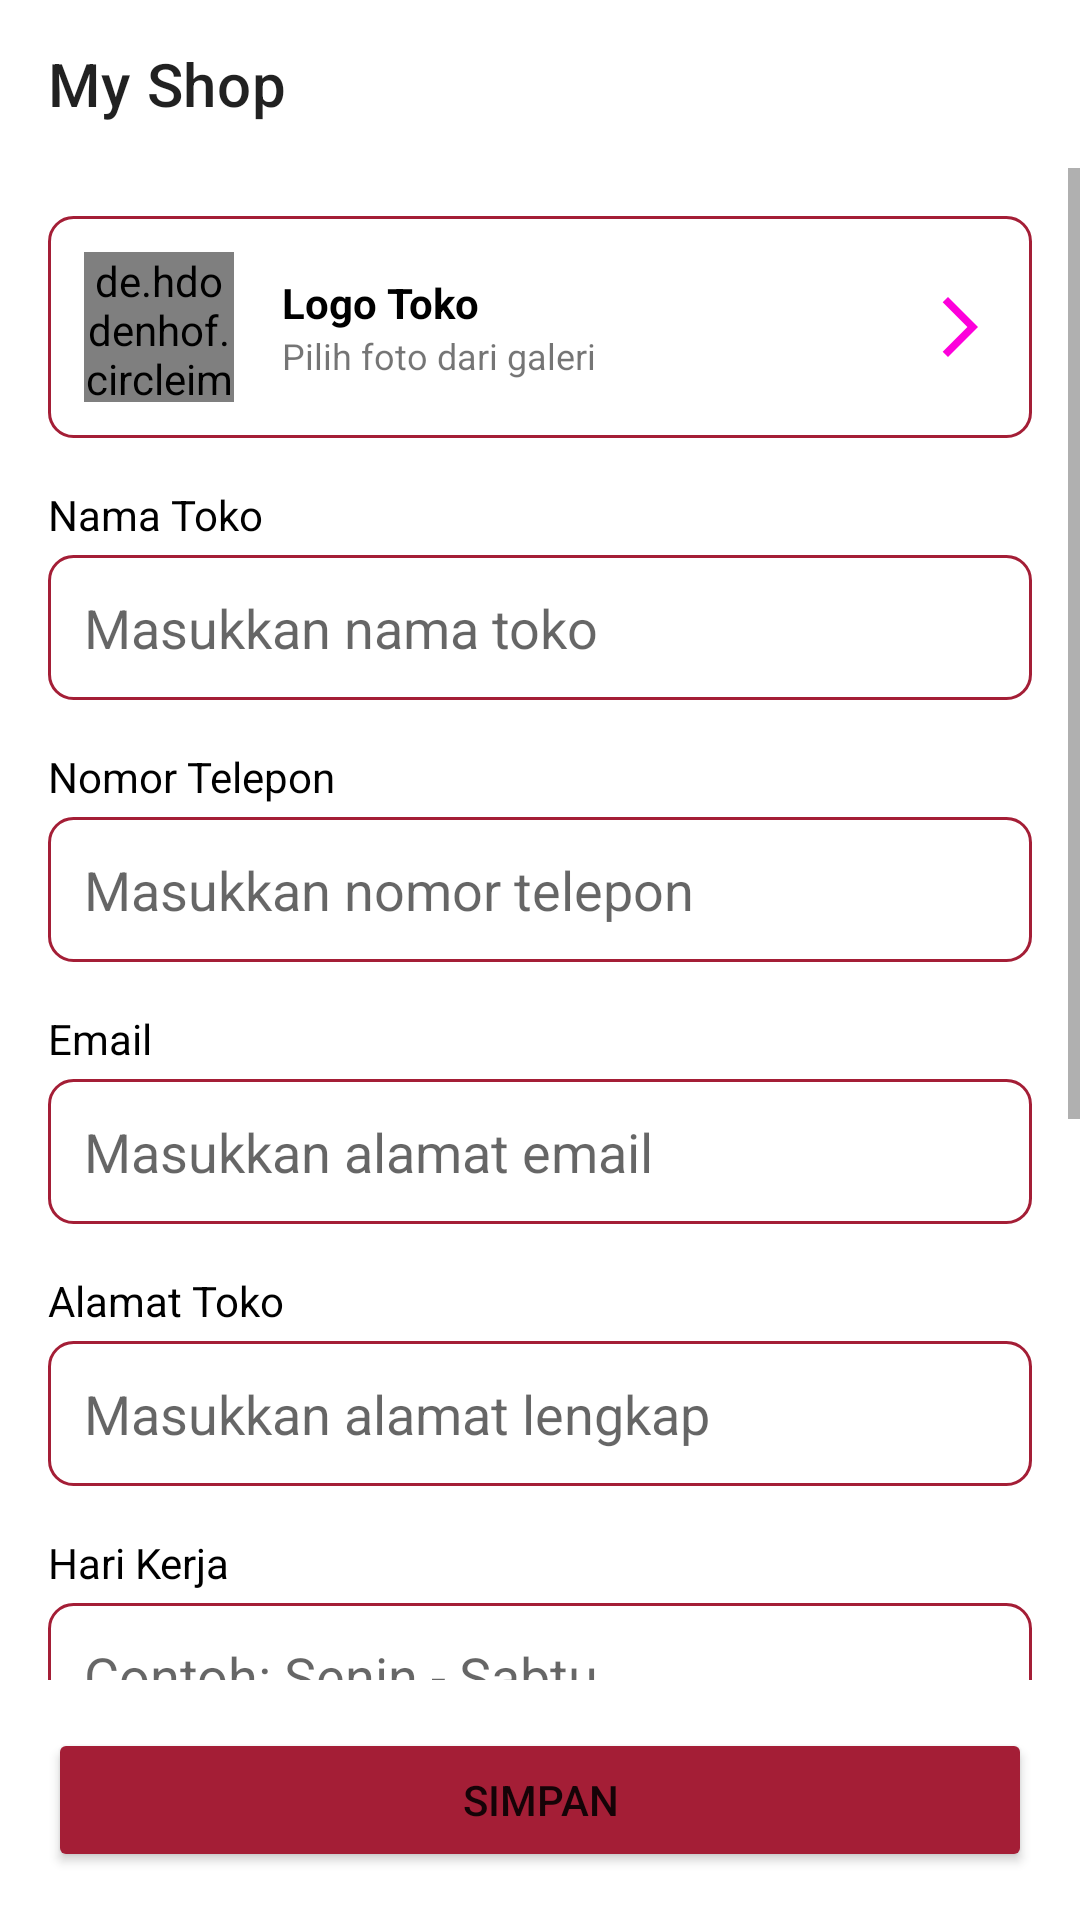

Where to tap for icons on this 1080w x 1920h app screen, as (x,y):
panah: (960,327)
